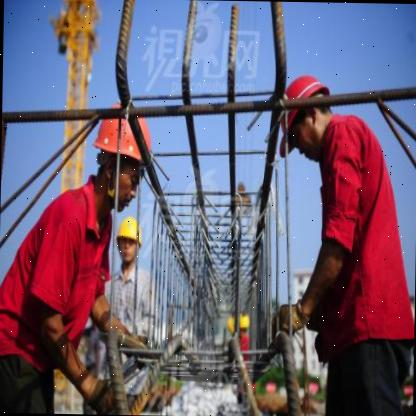capacete: (92, 110, 145, 206), (276, 70, 338, 147), (116, 210, 140, 263)
